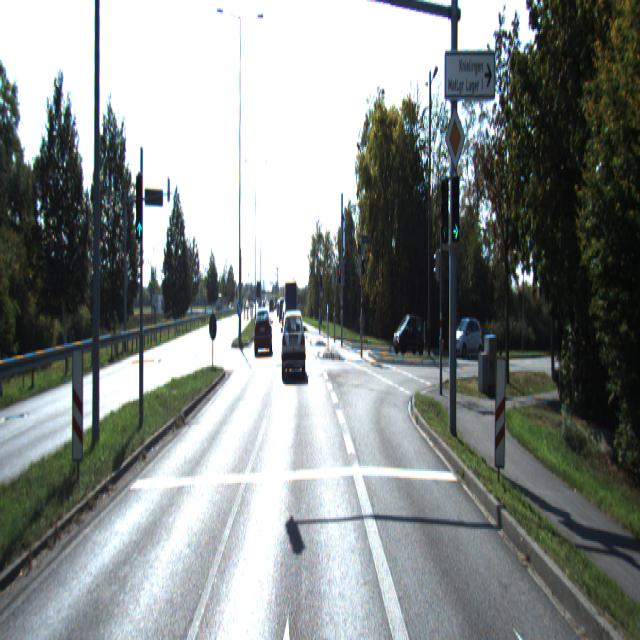Car: (281, 315, 306, 380), (449, 316, 484, 362), (393, 313, 424, 356), (254, 308, 272, 356), (284, 279, 298, 337)
